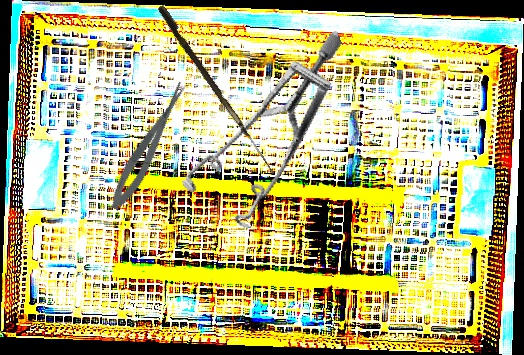Hook Surgical: (154, 4, 282, 175)
Micro Scissor: (103, 78, 196, 215)
Speculum: (151, 30, 392, 245)
